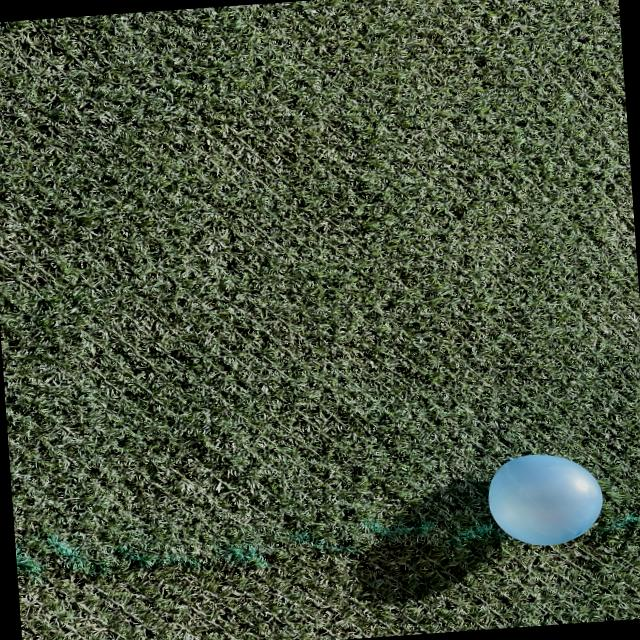balloon: (489, 455, 602, 545)
